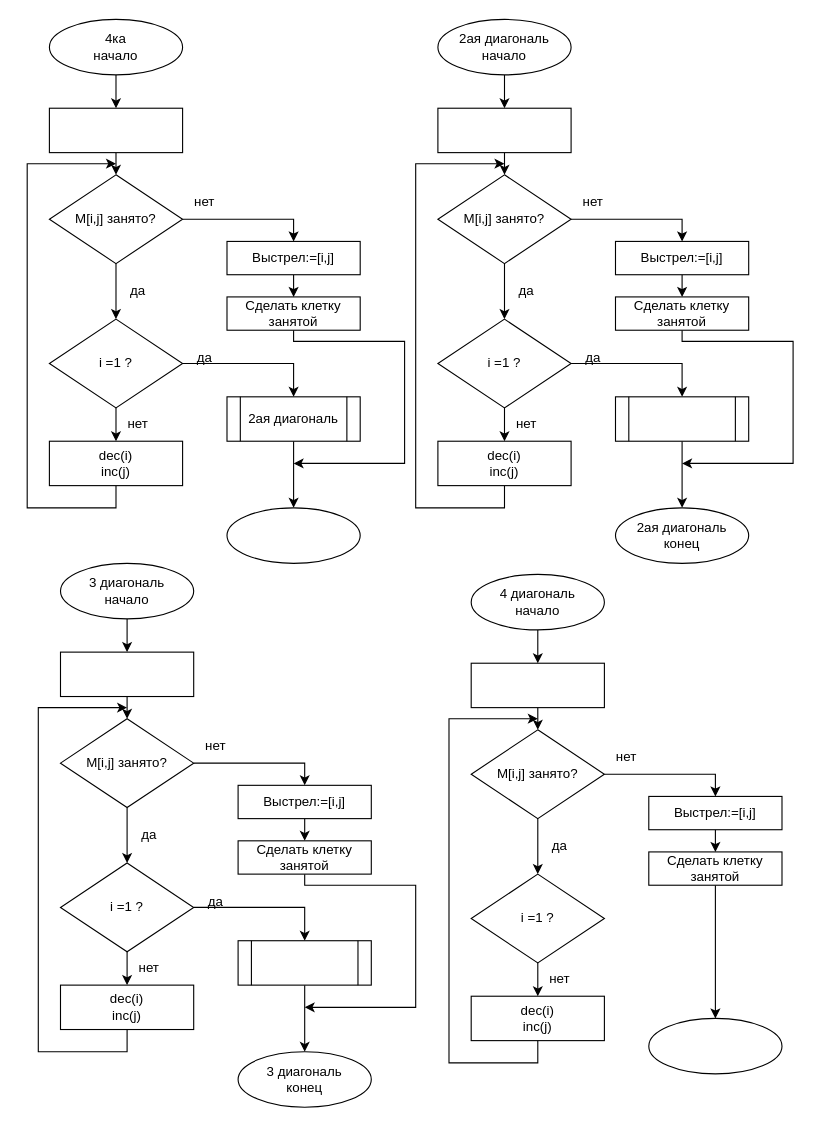
The diagram is 821 pixels wide and 1127 high, and some of its shapes have lost their labels. The shapes that lost their labels are listed below. From the top down, each one's centre as x and y in pixels, then its label:
At pixel 115 130: "i:=4 j:=1".
At pixel 504 130: "i:=8 j:=1".
At pixel 681 418: "3ая диагональ".
At pixel 293 535: "4ка конец".
At pixel 126 674: "i:=10 j:=3".
At pixel 537 685: "i:=10 j:=8".
At pixel 304 962: "4ая диагональ".
At pixel 715 1045: "4 диагональ конец".
